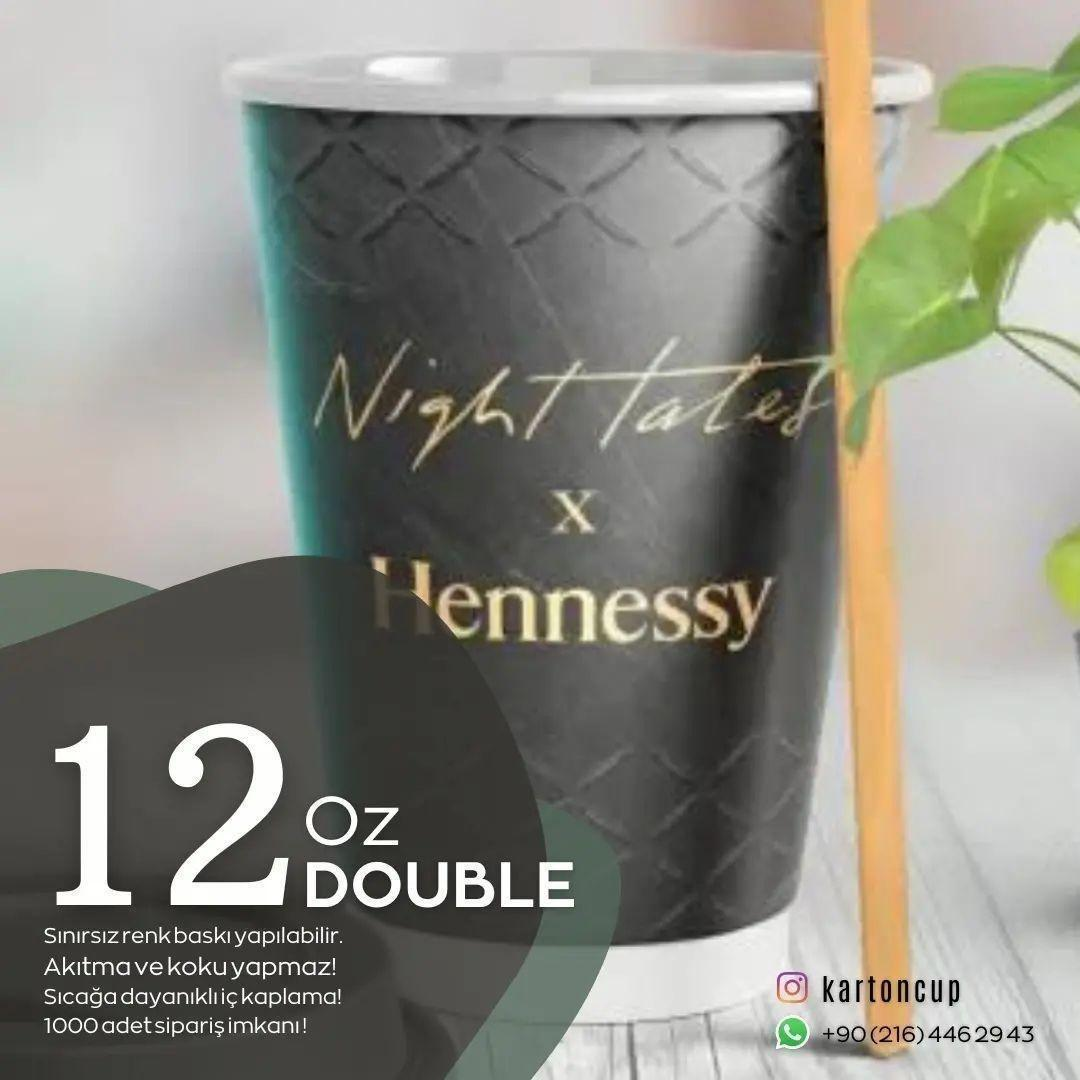cup-disposable: (226, 31, 959, 1033)
